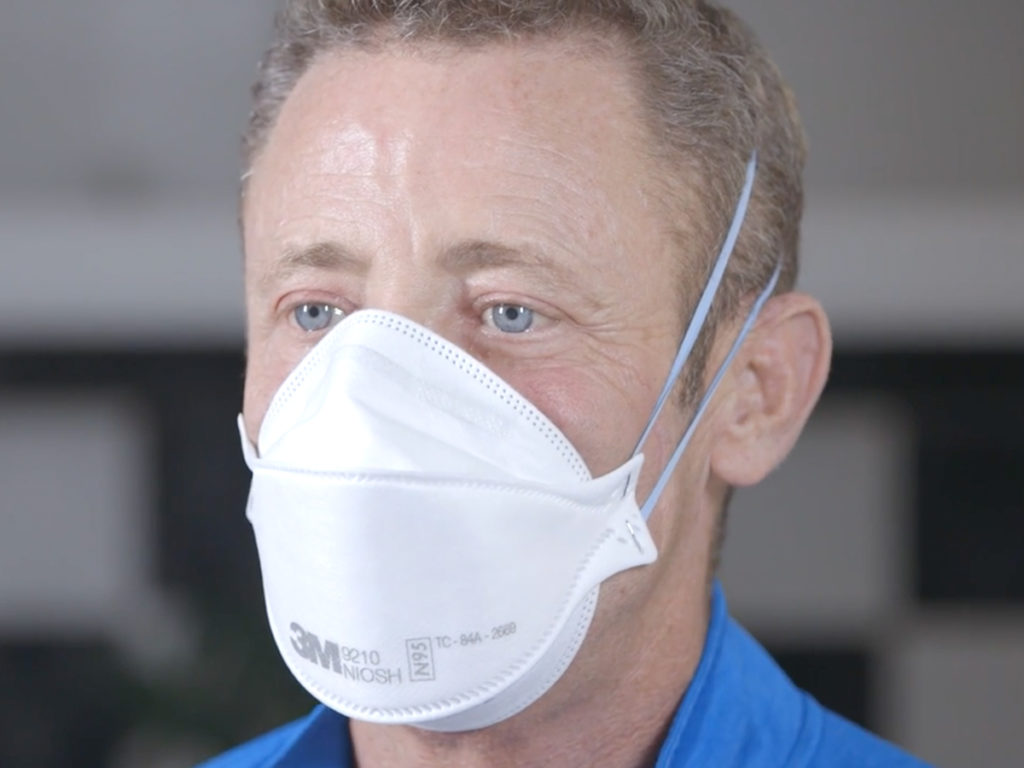n95: (224, 304, 642, 737)
